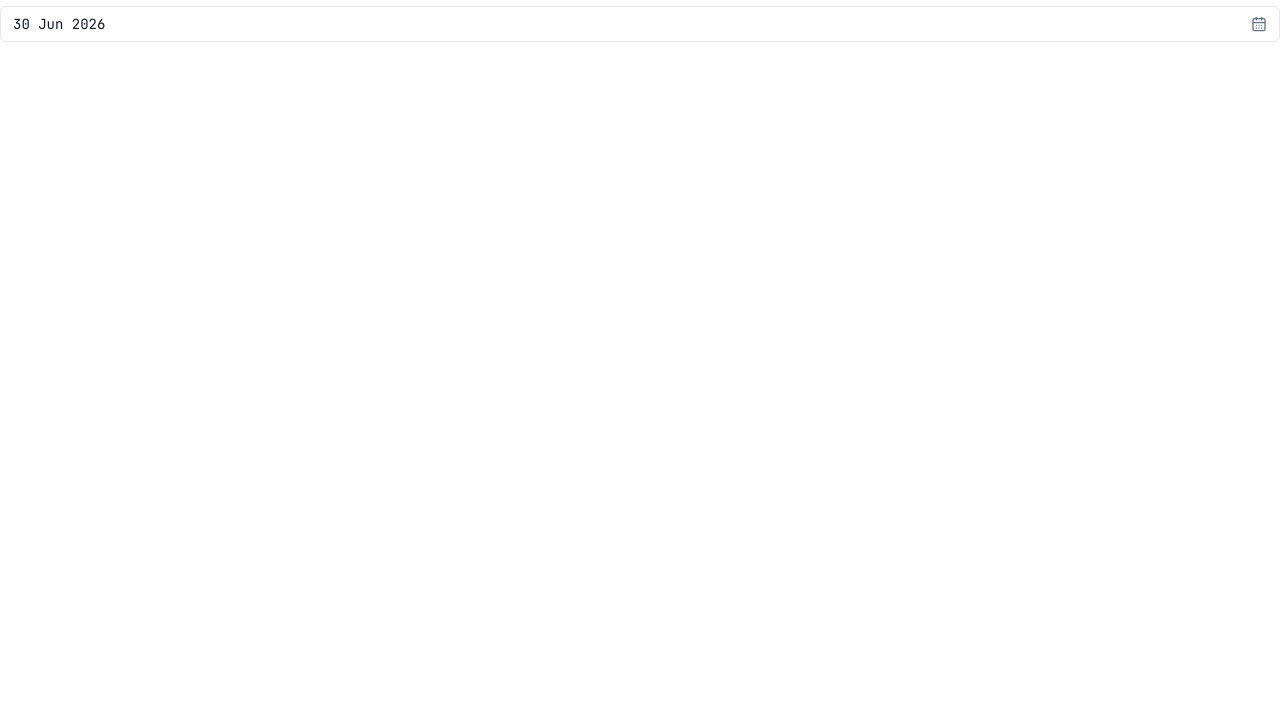
it: month and year arrows move the calendar, and a day picks an ISO date
Later steps or results of the test are not shown.
Click the field named "Pick": click(620, 24) [1, 7, 1239, 41]
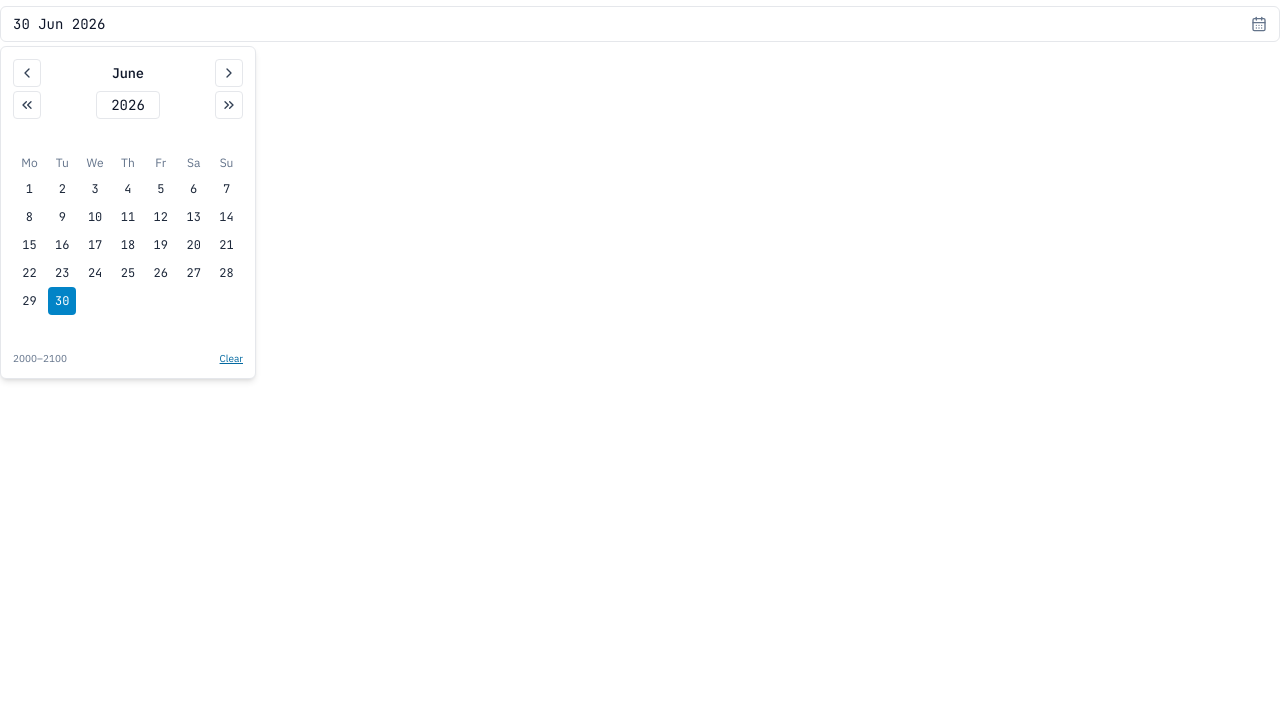
Expected: the text "June" is shown, [112, 63, 144, 83]
Click the button named "Next month": click(229, 73) [215, 59, 243, 87]
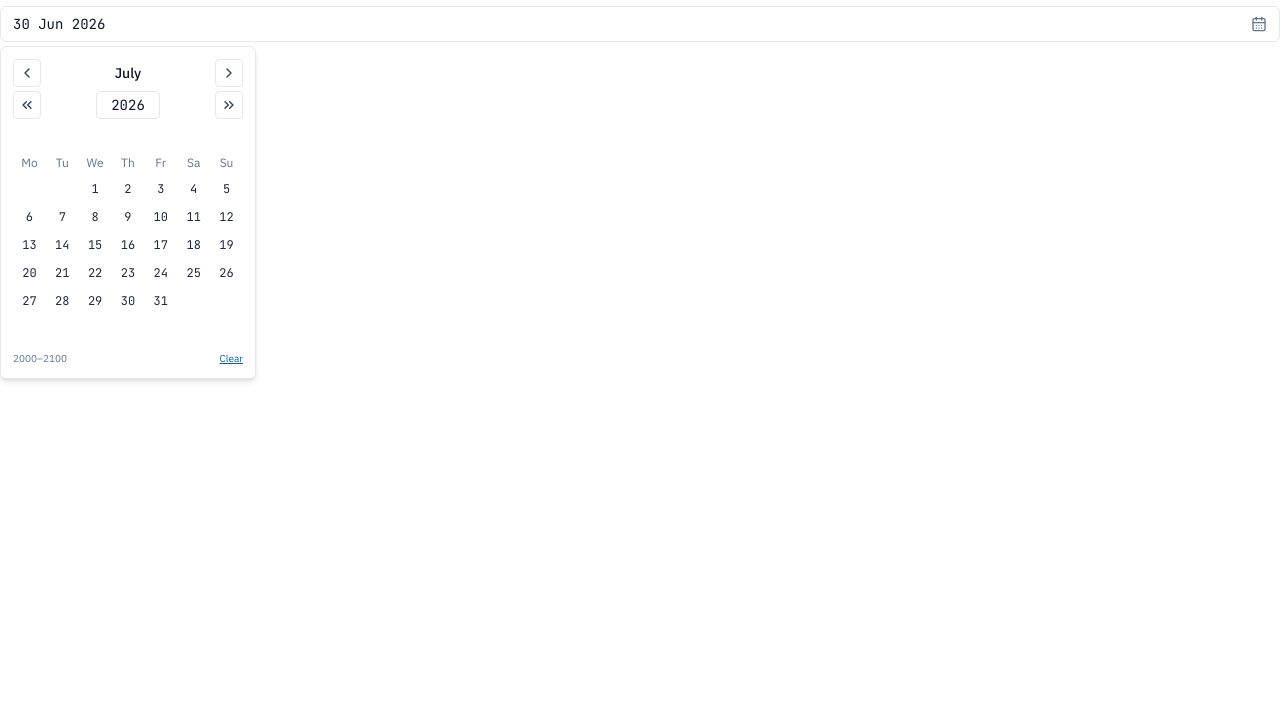
Expected: the text "July" is shown, [115, 63, 141, 83]
